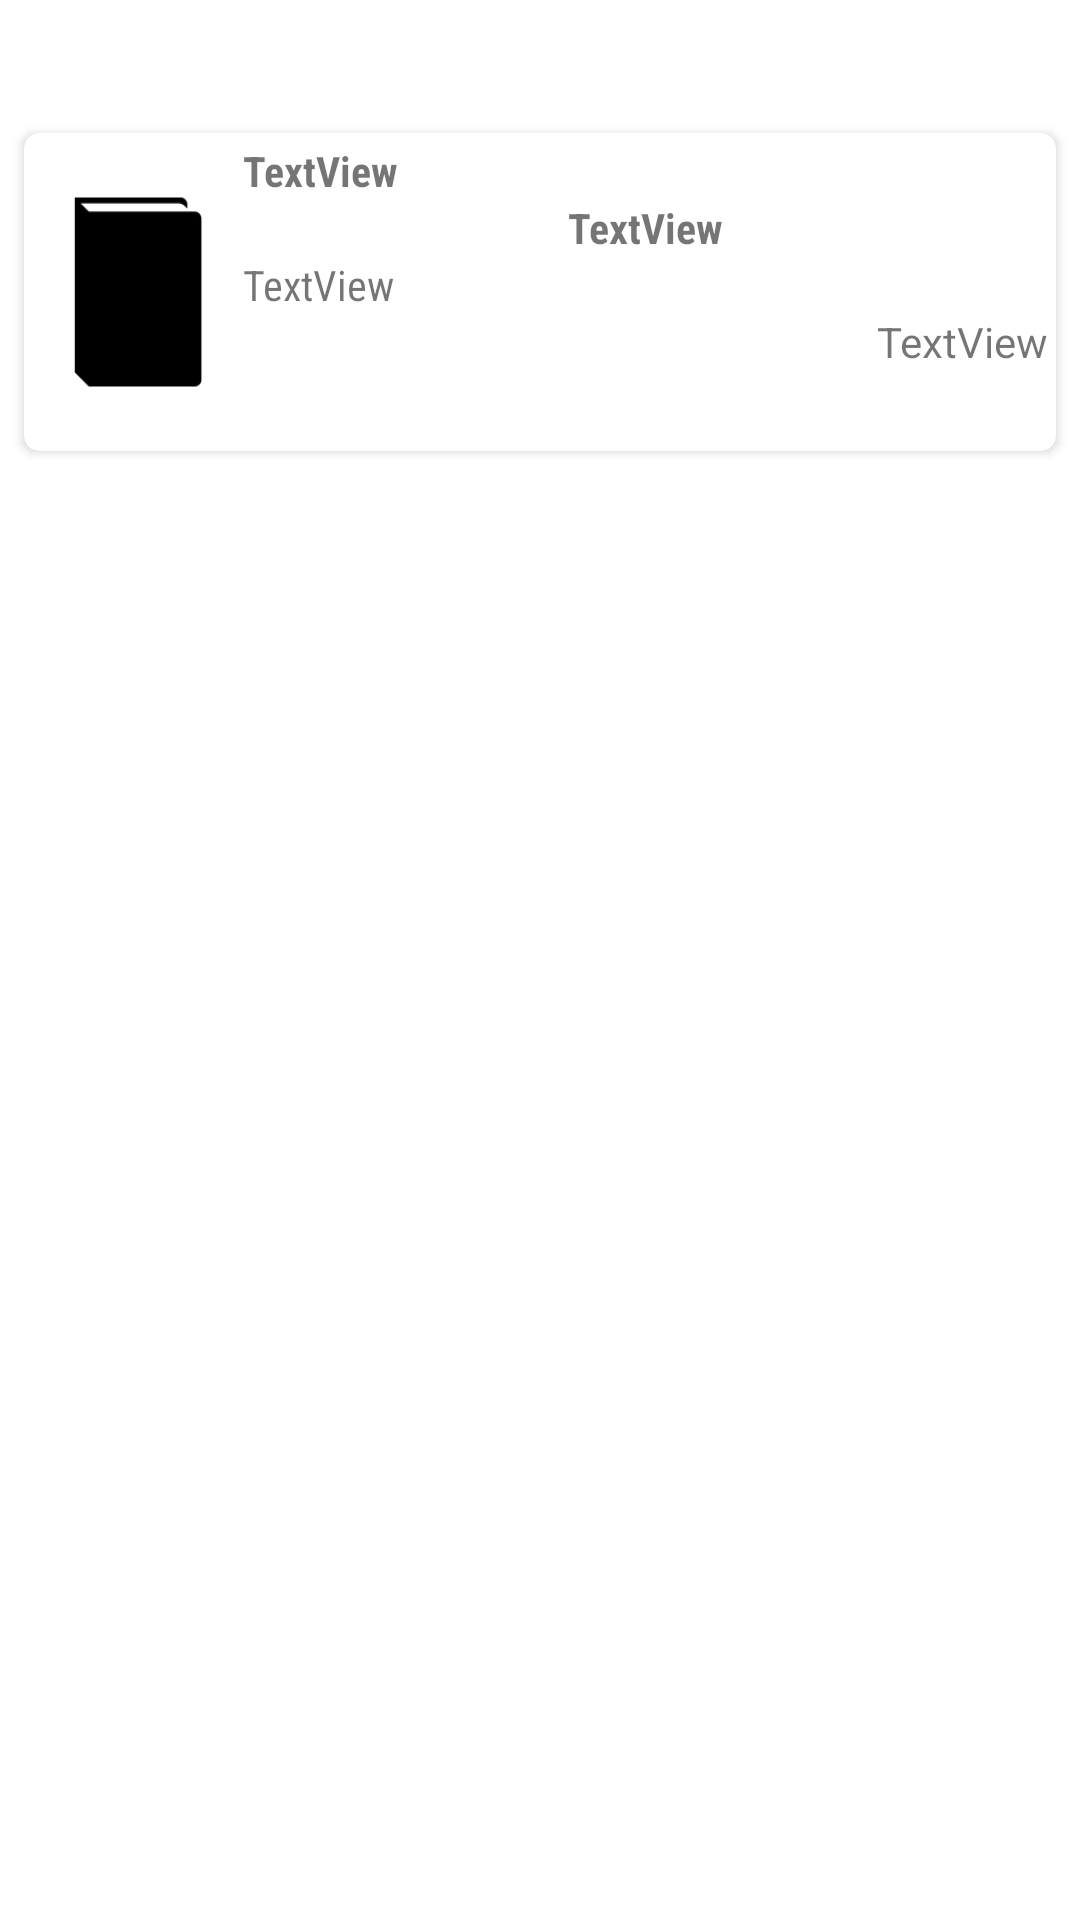

Screen size 1080px x 1920px. Icon name, then its center in pixels as (x=x, y=y):
book: (x=138, y=292)
